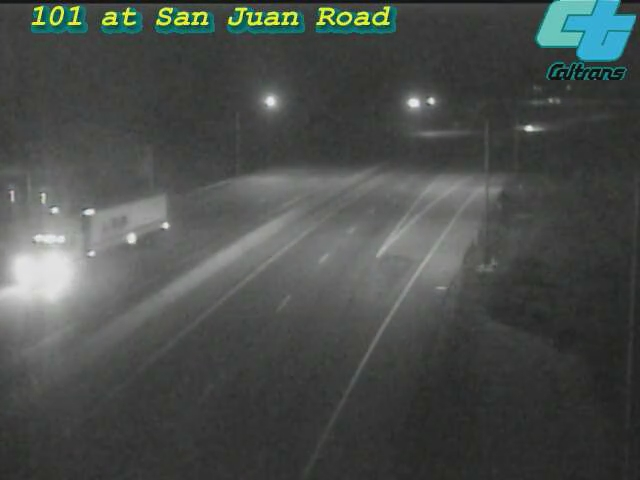vehicle: (64, 192, 144, 272), (504, 104, 554, 154)
